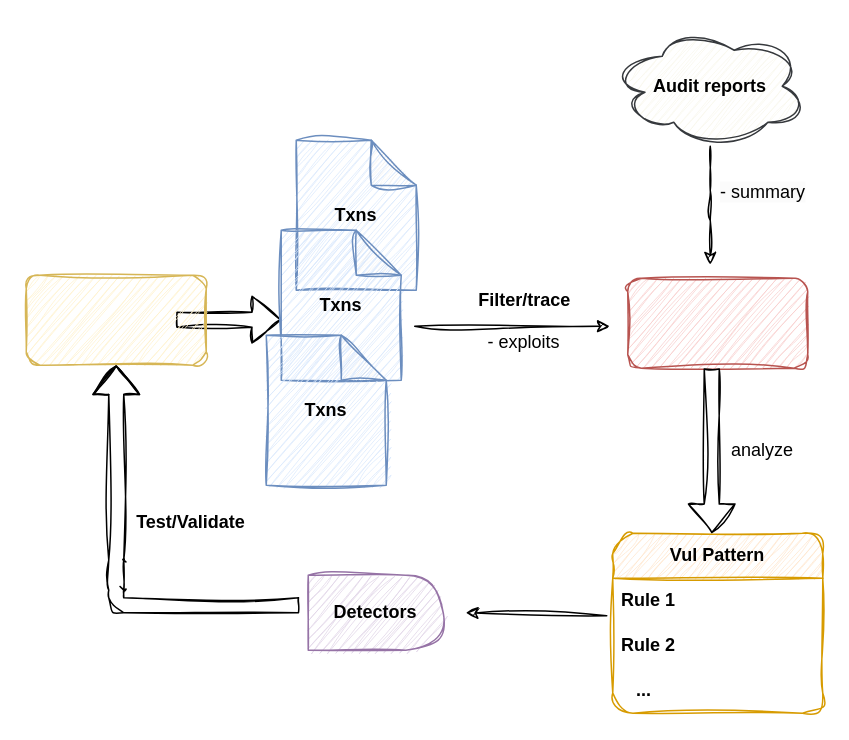
Image size: 849x740. Some labels were removed from this diagram. The centre of each missing label's shape, as x and y in pixels:
"DAO SCs" goes at (115,319).
"Vul DAO SCs" goes at (717,322).
